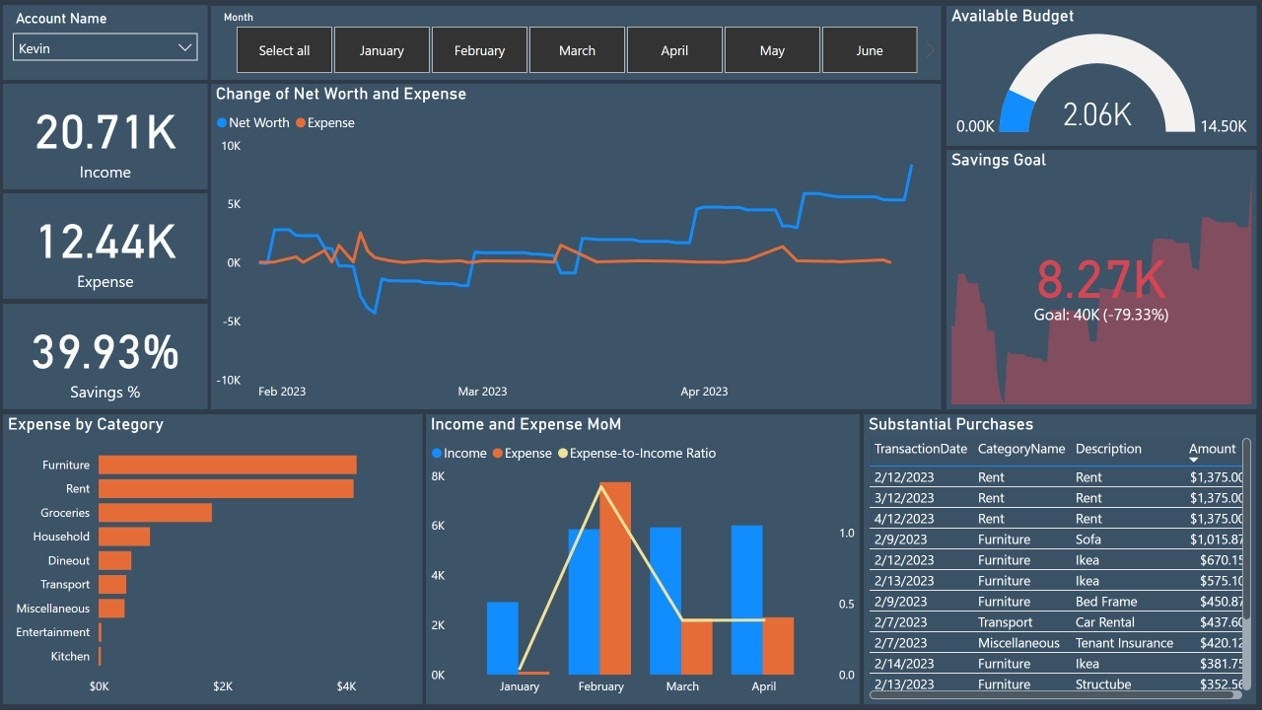

Layout of this report page (visuals, bound fields, positions):
{"tool":"powerbi","page":{"name":"dashboard","canvas":[1280,720],"ordinal":0},"visuals":[{"type":"card","fields":{"Values":["Date.Total Income"]},"box":[2.9,84.7,207.3,107.1],"z":0},{"type":"card","fields":{"Values":["Date.Total Expense"]},"box":[2.9,196.1,207.3,107.1],"z":1000},{"type":"lineChart","title":"Change of Net Worth and Expense","fields":{"Category":["Date.Date.Variation.Date Hierarchy.Year","Date.Date.Variation.Date Hierarchy.Quarter","Date.Date.Variation.Date Hierarchy.Month","Date.Date.Variation.Date Hierarchy.Day"],"Y":["Date.Cumulative Net Worth","Date.Total Expense"]},"box":[214.1,84.7,740.7,330],"z":2000},{"type":"tableEx","title":"Substantial Purchases in 90 days","fields":{"Values":["bi_table.TransactionDate","bi_table.CategoryName","bi_table.Description","bi_table.Amount"]},"box":[876.1,419.5,398.1,294],"z":3000},{"type":"clusteredBarChart","title":"Expense by Category","fields":{"Category":["bi_table.CategoryName"],"Y":["Sum(bi_table.Amount)"]},"box":[2.9,419.5,425.4,294],"z":4000},{"type":"lineClusteredColumnComboChart","title":"Income and Expense MoM","fields":{"Y2":["Date.Expense-to-Income Ratio"],"Category":["Date.Date.Variation.Date Hierarchy.Month"],"Y":["Date.Total Income","Date.Total Expense"]},"box":[432.2,419.5,440,294],"z":5000},{"type":"gauge","title":"Available Budget","fields":{"MaxValue":["Date.Expected Expense"],"Y":["Date.Available Budget"]},"box":[959.8,5.8,314.4,142],"z":6000},{"type":"kpi","title":"Savings Goal","fields":{"Goal":["Date.Target Savings"],"TrendLine":["Date.Date"],"Indicator":["Date.Cumulative Net Worth"]},"box":[959.8,151.8,314.4,262.8],"z":7000},{"type":"slicer","fields":{"Values":["Date.Month.Variation.Date Hierarchy.Month"]},"box":[214.1,5.8,740.7,75],"z":8000},{"type":"slicer","fields":{"Values":["bi_table.AccountName"]},"box":[2.9,4.9,207.3,75.9],"z":9000},{"type":"card","fields":{"Values":["Date.Savings %"]},"box":[2.9,307.6,207.3,107.1],"z":10000}]}

Visuals, with their boxes in screenshot pixels (x1, y1, x2, y2), scaled from the page's 1280x720 canvas onto the 1262x710 screenshot:
card - Date.Total Income: select_region(3, 84, 207, 189)
card - Date.Total Expense: select_region(3, 193, 207, 299)
"Change of Net Worth and Expense" lineChart: select_region(211, 84, 941, 409)
"Substantial Purchases in 90 days" tableEx: select_region(864, 414, 1256, 704)
"Expense by Category" clusteredBarChart: select_region(3, 414, 422, 704)
"Income and Expense MoM" lineClusteredColumnComboChart: select_region(426, 414, 860, 704)
"Available Budget" gauge: select_region(946, 6, 1256, 146)
"Savings Goal" kpi: select_region(946, 150, 1256, 409)
slicer - Date.Month.Variation.Date Hierarchy.Month: select_region(211, 6, 941, 80)
slicer - bi_table.AccountName: select_region(3, 5, 207, 80)
card - Date.Savings %: select_region(3, 303, 207, 409)
